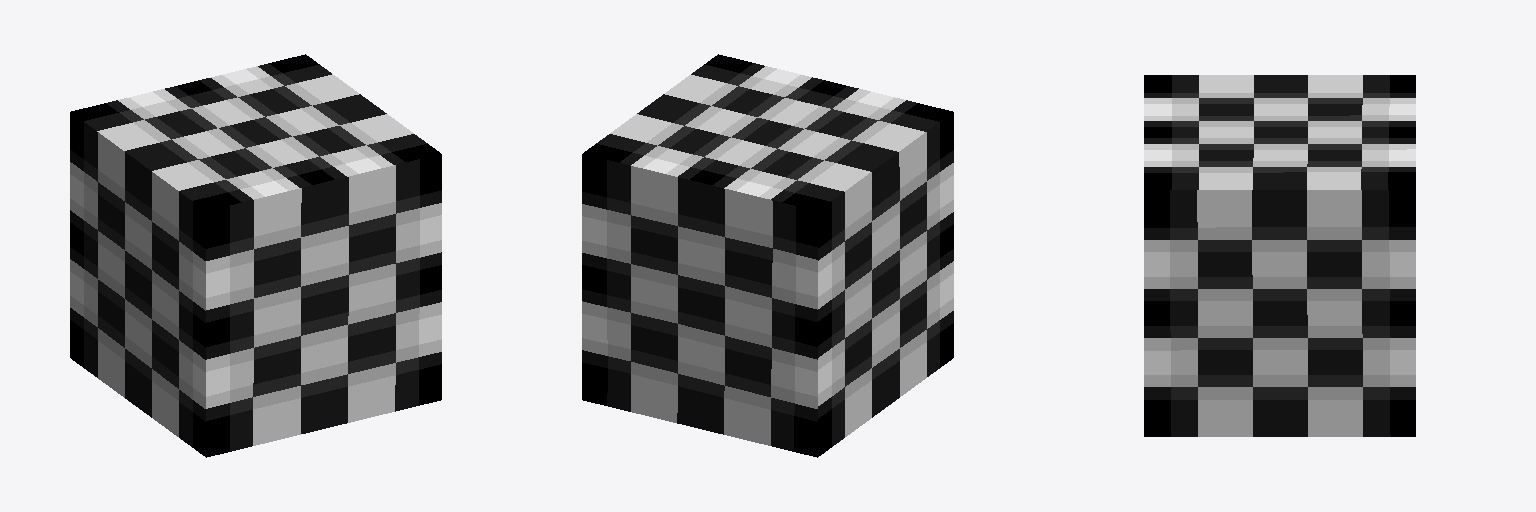
The picture shows the model from 3 angles: view 1: azimuth 30°, elevation 25°; view 2: azimuth 150°, elevation 25°; view 3: azimuth 270°, elevation 25°; orthographic projection.
Visible parts, largest first — view 1: Cube; view 2: Cube; view 3: Cube.
Boxes of the visible parts, x1=… form: Cube: x1=70, y1=54, x2=441, y2=457; Cube: x1=582, y1=54, x2=953, y2=457; Cube: x1=1144, y1=75, x2=1415, y2=436.
Bounding box in the file's own units: 2 × 2 × 2.
Materials: 1 (1 with a texture image).